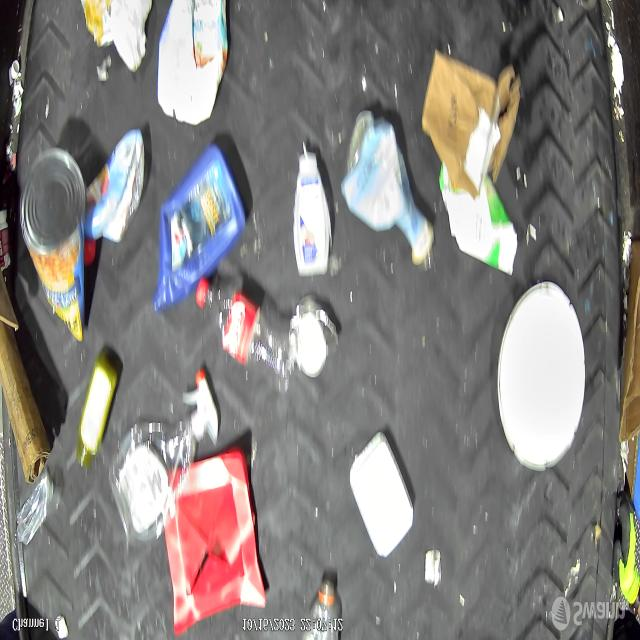can: (21, 144, 87, 346)
non_white_jug: (165, 450, 267, 638), (152, 142, 248, 311)
plastic_bottle: (115, 415, 202, 542), (206, 282, 296, 393), (16, 470, 54, 544)
